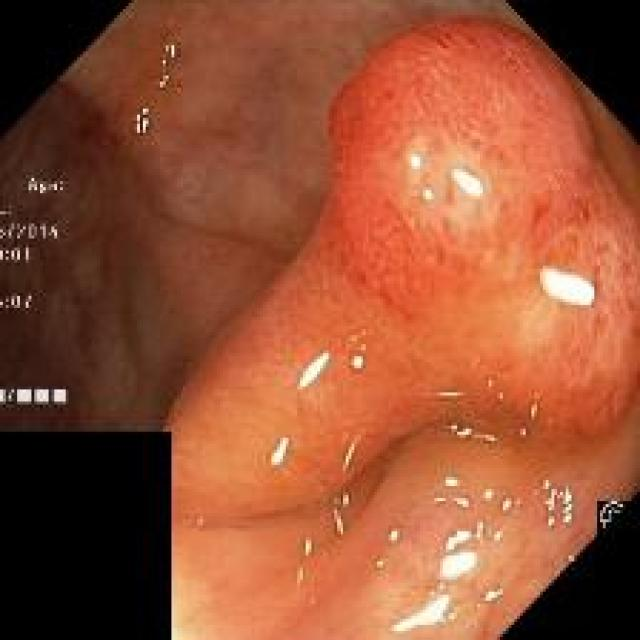Polyps: (169, 20, 640, 518)
